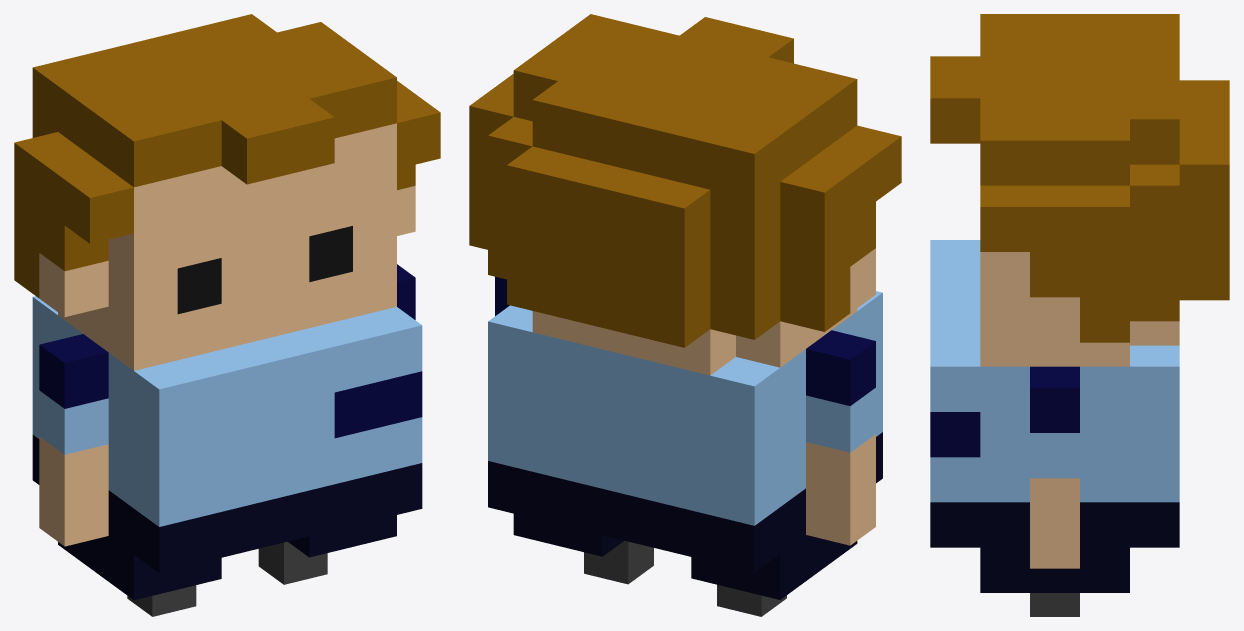
The model's file is chr_paramedic1.obj.
3 views of the same model, side by side, from view 1: azimuth 30°, elevation 25°; view 2: azimuth 150°, elevation 25°; view 3: azimuth 270°, elevation 25° (orthographic). The views are drawn at different scales.
Size of the model in its own units: 0.8 by 1.1 by 0.6.
1 material, 1 textured.
